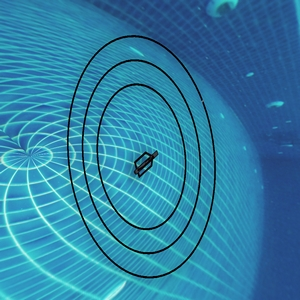circle: (65, 17, 230, 300)
submarine: (139, 149, 154, 175)
